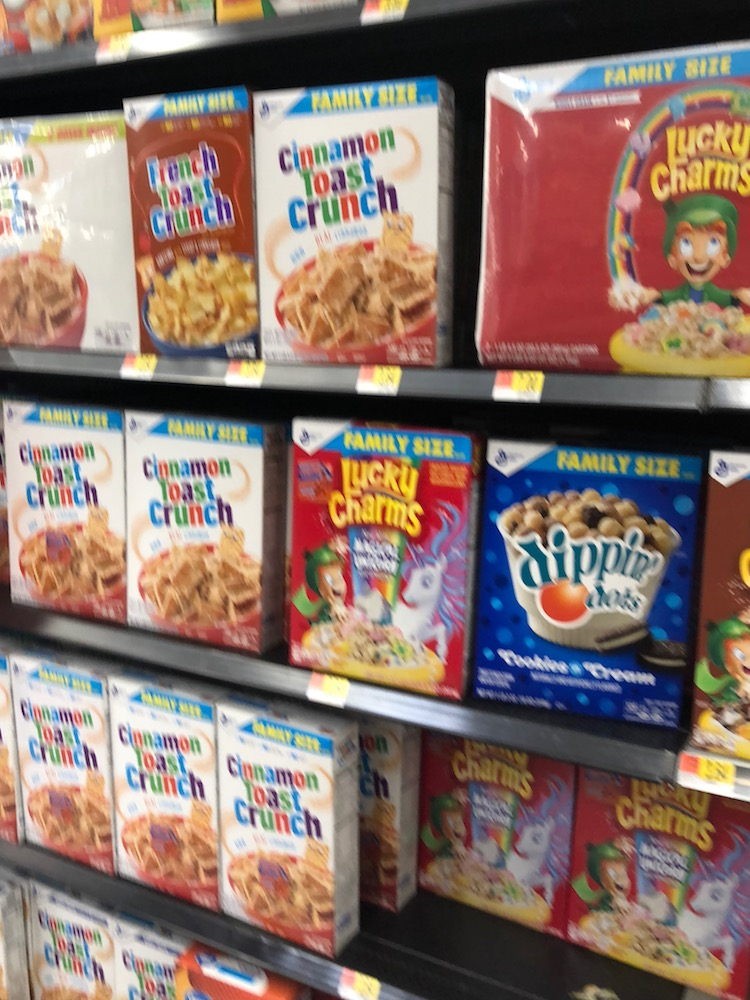Dippin Dots Cookies & Cream -568929378: (483, 443, 695, 724)
